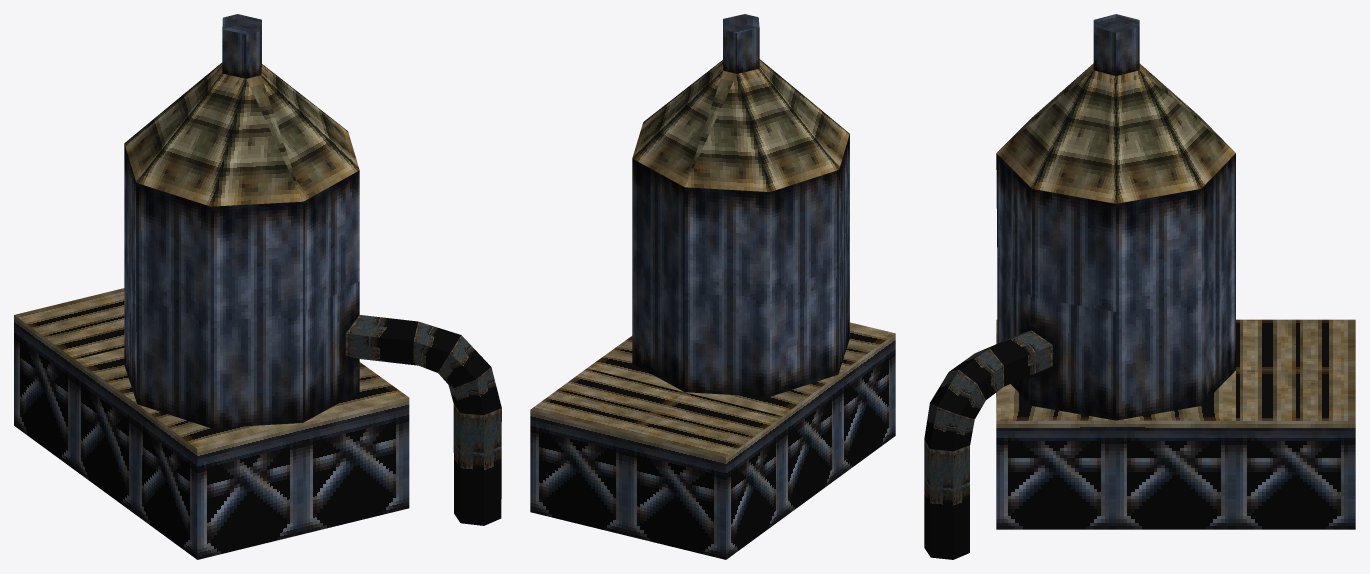
The picture shows the model from 3 angles, left to right: view 1: azimuth 30°, elevation 25°; view 2: azimuth 150°, elevation 25°; view 3: azimuth 270°, elevation 25°; orthographic projection. The views are drawn at different scales.
Parts seen in each view (by area): view 1: prim222-water thing; view 2: prim222-water thing; view 3: prim222-water thing.
Part boxes in pixels (x1=…): prim222-water thing: x1=14, y1=14, x2=501, y2=559; prim222-water thing: x1=530, y1=14, x2=895, y2=559; prim222-water thing: x1=924, y1=14, x2=1355, y2=559.
Size of the model in its own units: 333 by 537 by 461.
Materials: 3 (3 with a texture image).
